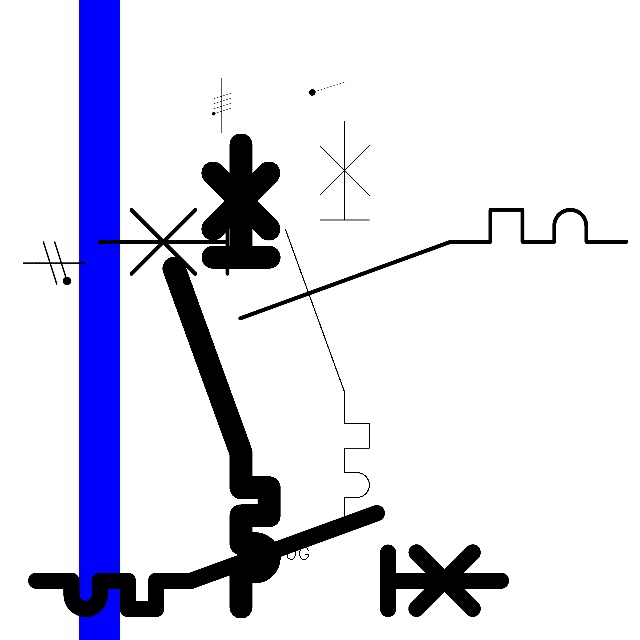interruptor_termomagnetico: (85, 196, 639, 331), (24, 501, 513, 621), (162, 132, 281, 618), (275, 110, 380, 538)
